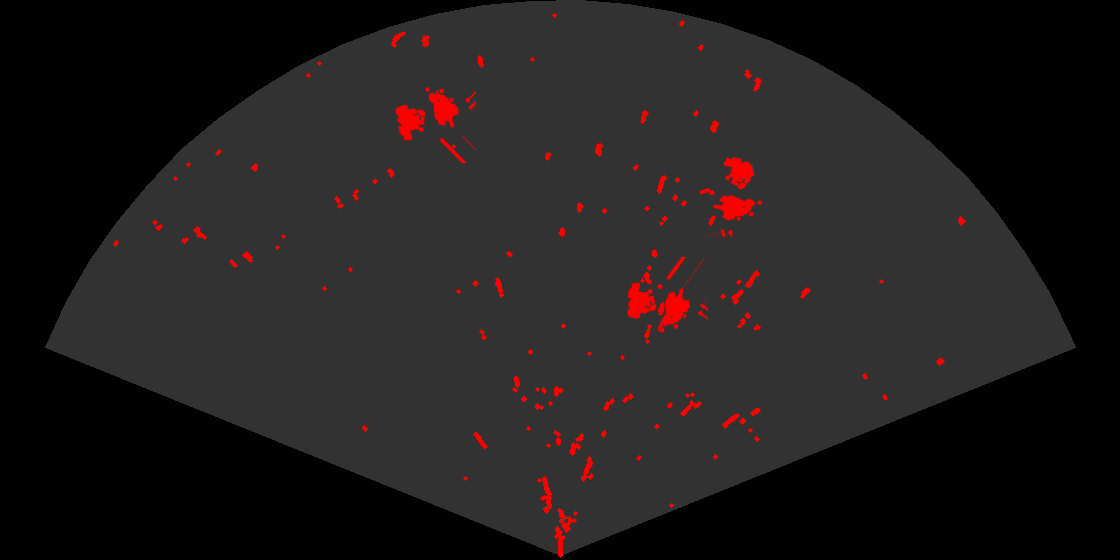cage: (394, 86, 476, 163), (626, 257, 708, 334), (700, 156, 764, 237)
